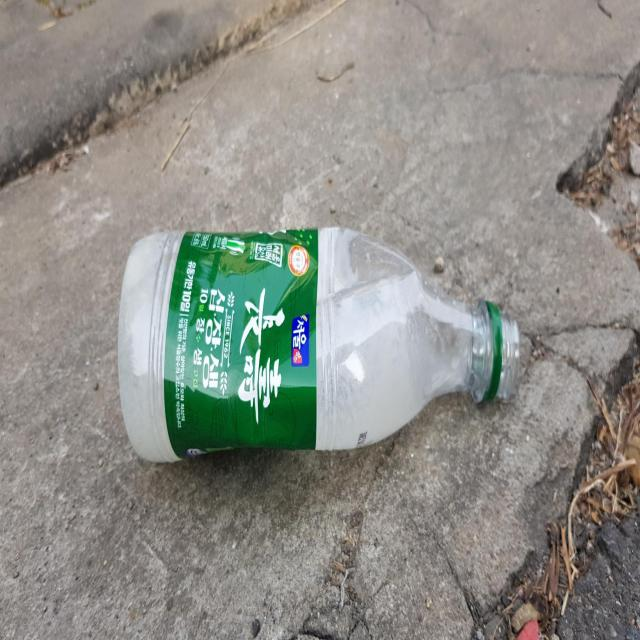plastic: (117, 225, 520, 461)
